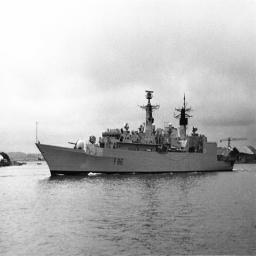Fragata: (34, 81, 238, 184)
